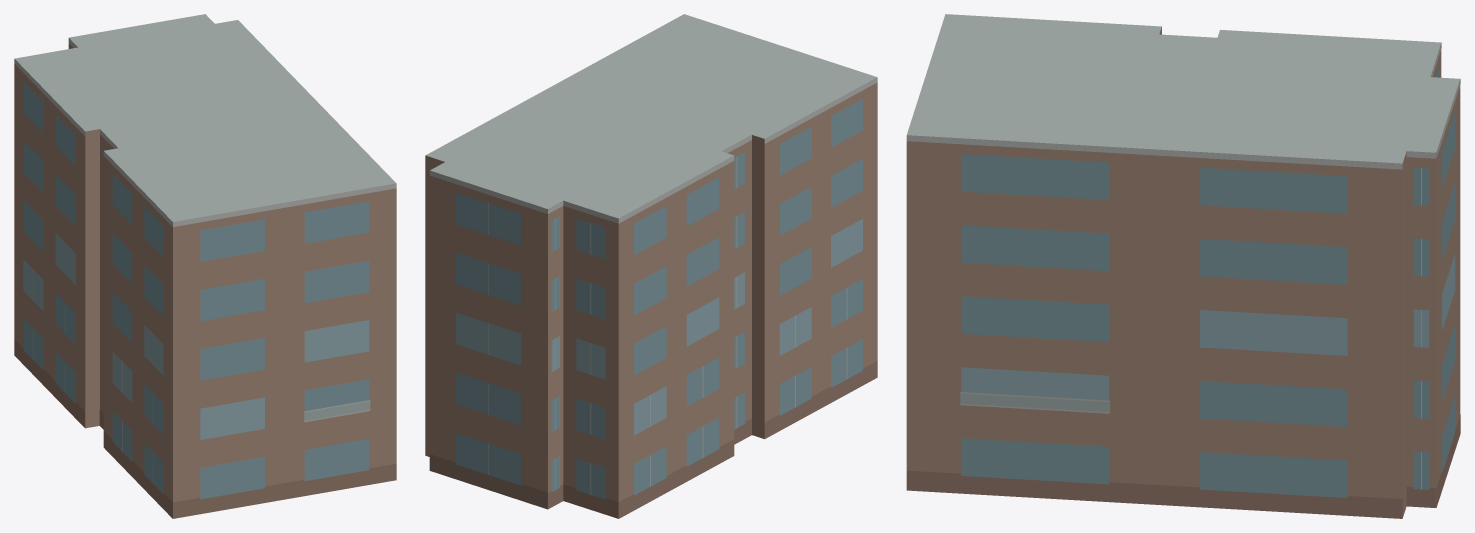
Rendered from survey-upis-32660018.glb.
3 renders of one model, left to right at view 1: azimuth 30°, elevation 25°; view 2: azimuth 150°, elevation 25°; view 3: azimuth 270°, elevation 25°, orthographic. The views are drawn at different scales.
Visible parts, largest first — view 1: survey-upis-32660018.tmp; view 2: survey-upis-32660018.tmp; view 3: survey-upis-32660018.tmp.
Boxes of the visible parts, x1,y1,x2,y2 form: survey-upis-32660018.tmp: [14, 14, 396, 518]; survey-upis-32660018.tmp: [425, 14, 877, 518]; survey-upis-32660018.tmp: [906, 14, 1460, 518].
Bounding box in the file's own units: 13.01 × 14.4 × 20.35.
